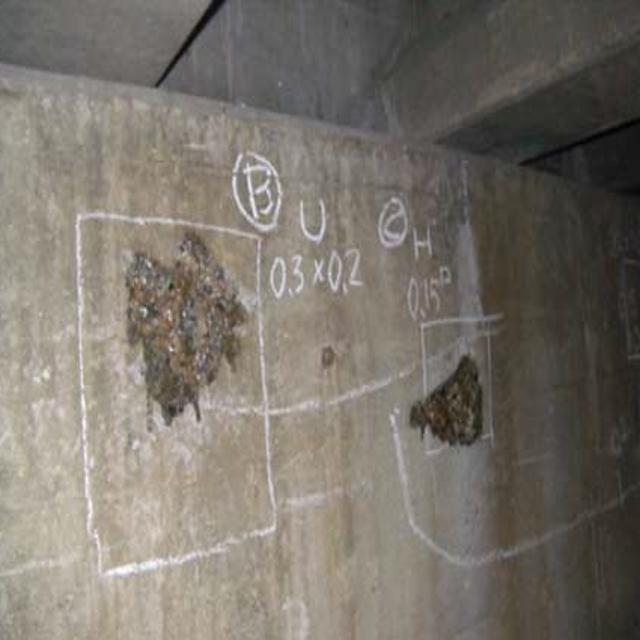spalling: (100, 230, 266, 424), (392, 352, 497, 448)
